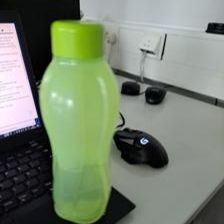bottle: (39, 19, 122, 222)
